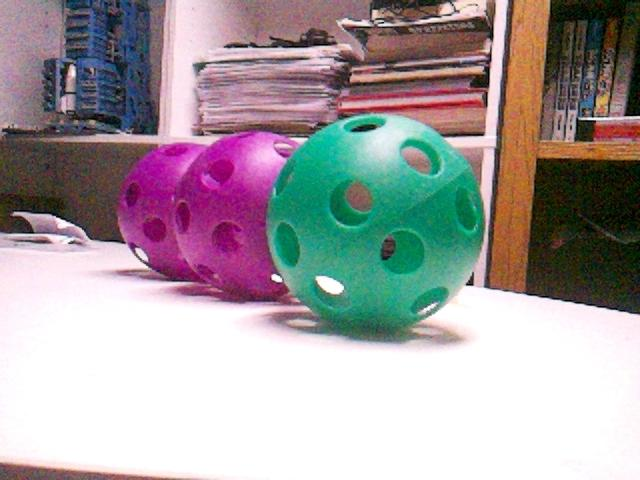Green: (267, 114, 486, 331)
Purple: (174, 133, 301, 300), (117, 144, 209, 280)
